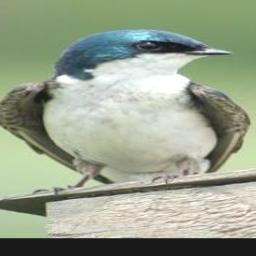Swallow: (0, 27, 255, 196)
